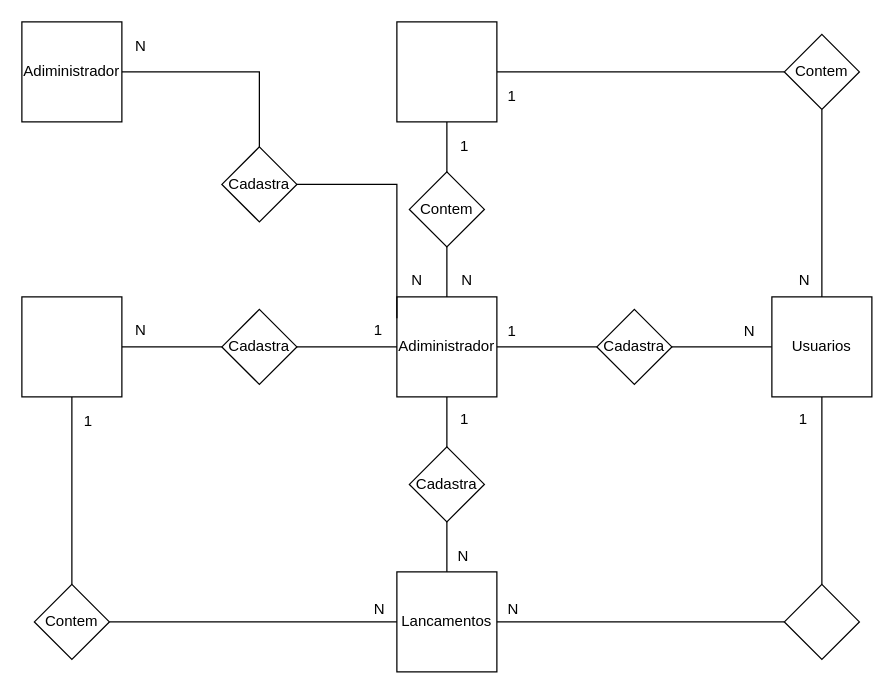
Image size: 894x694. Some labels were removed from this diagram. The shapes that lost their labels are listed below. From the top down, each one's box as (x1, y1, x2, y2) in pixels, then its label:
(396, 21, 497, 122): OpFlix
(21, 296, 122, 397): Categorias
(783, 583, 859, 659): Visualiza
